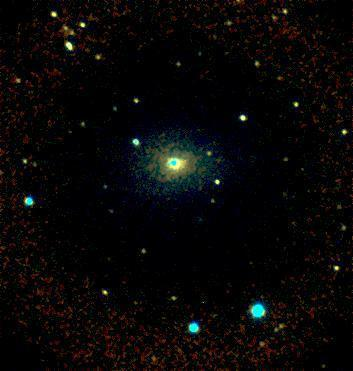star: (120, 287, 150, 317)
